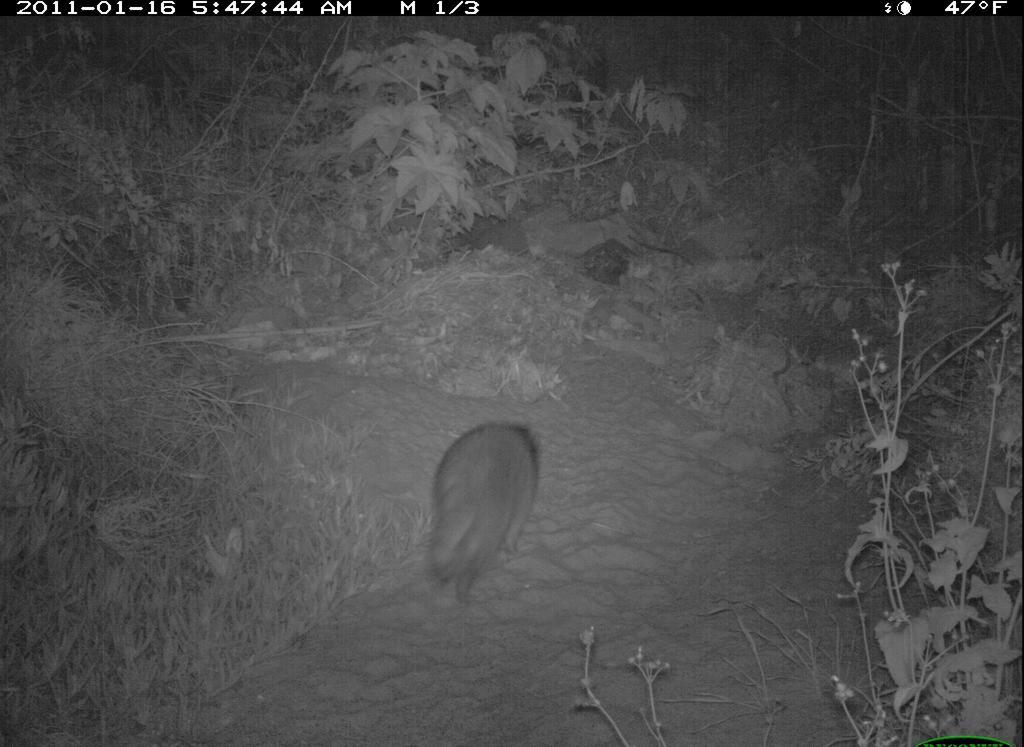raccoon: (419, 408, 547, 609)
